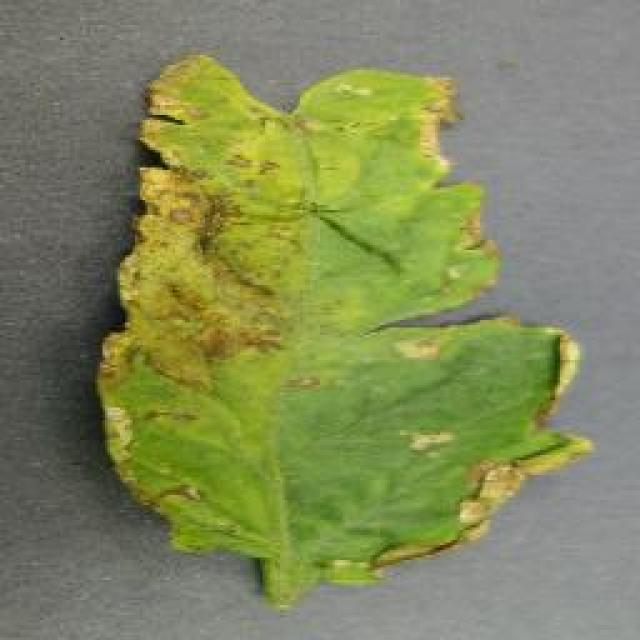Tomato___Bacterial_spot: (96, 56, 599, 610)
